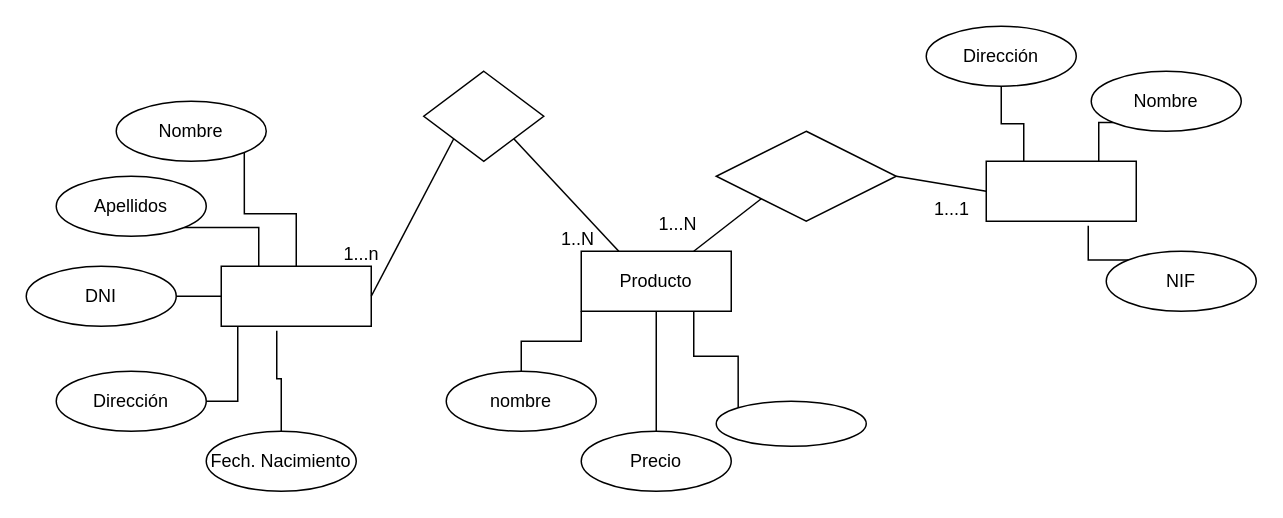
Some shapes in this 1283 by 518 pixel diagram are drawn without their labels. The shapes that lost their labels are listed below. From the top down, each one's centre as x and y in pixels, then its label:
[483,115]: Compra
[805,175]: Suministra
[1060,190]: Proveedor
[295,295]: Cliente
[790,423]: código
